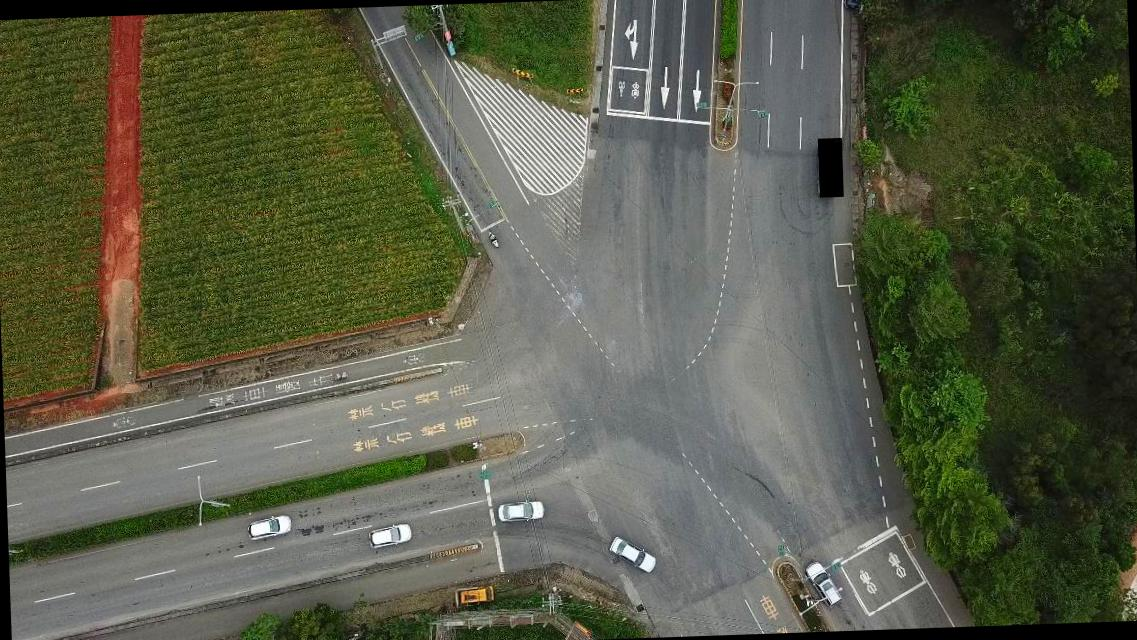vehicle: (608, 535, 656, 572), (804, 560, 840, 606), (244, 512, 292, 540), (366, 524, 413, 548), (497, 500, 545, 523), (458, 588, 495, 607), (842, 0, 865, 13)
